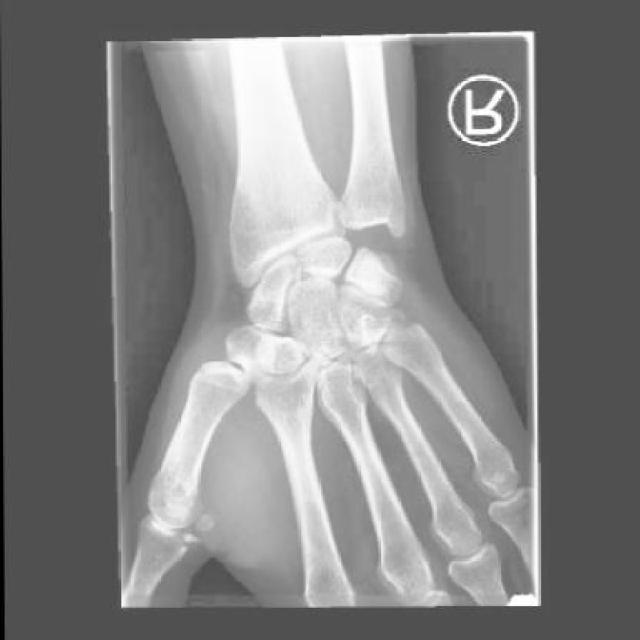Fracture: (171, 534, 196, 557)
